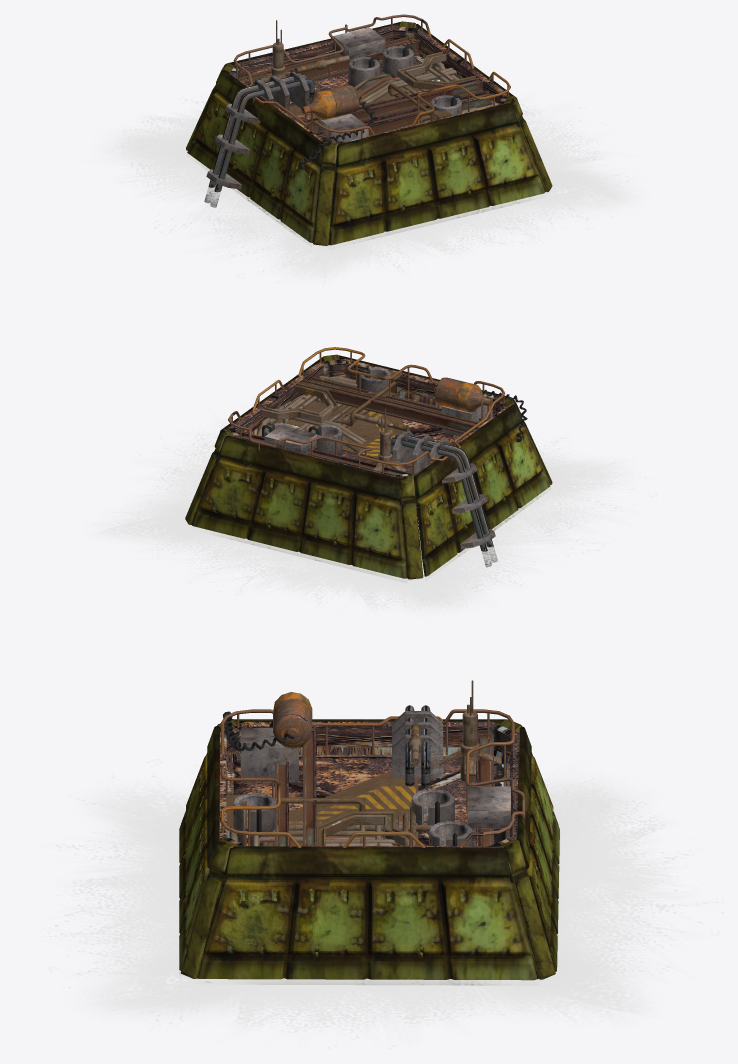
The model's file is static.glb.
3 renders of one model, top to bottom at view 1: azimuth 30°, elevation 25°; view 2: azimuth 150°, elevation 25°; view 3: azimuth 270°, elevation 25°, orthographic. The views are drawn at different scales.
Visible parts, largest first — view 1: scorch, Plane_16, Plane_8, Extrude, SM_obj_PipeWall, Sweep, Sweep_9, Cube_2_2, Plane_6, drum_remesh, Cube_1, Cube_14 (+7 smaller); view 2: scorch, Plane_4, Plane_8, Extrude, SM_obj_PipeWall, Cube_2_2, Sweep, Sweep_9, Plane, drum_remesh, Sweep_5, Boole_1 (+6 smaller); view 3: scorch, Plane_12, Extrude, SM_obj_PipeWall, Plane_4, Plane_16, Sweep, Plane_10, Plane_14, Boole_1_3, drum_remesh, Boole_1 (+10 smaller).
Part boxes in pixels (left/top/right/bottom): scorch: left=98, top=56, right=641, bottom=286; Plane_16: left=329, top=103, right=545, bottom=245; Plane_8: left=187, top=70, right=322, bottom=242; Extrude: left=229, top=25, right=509, bottom=143; SM_obj_PipeWall: left=290, top=62, right=498, bottom=122; Sweep: left=233, top=14, right=510, bottom=135; Sweep_9: left=204, top=74, right=314, bottom=207; Cube_2_2: left=298, top=78, right=483, bottom=132; Plane_6: left=313, top=141, right=339, bottom=245; drum_remesh: left=301, top=84, right=359, bottom=120; Cube_1: left=238, top=36, right=419, bottom=85; Cube_14: left=313, top=90, right=493, bottom=139; scorch: left=88, top=399, right=657, bottom=614; Plane_4: left=191, top=436, right=406, bottom=578; Plane_8: left=413, top=404, right=550, bottom=576; Extrude: left=228, top=358, right=508, bottom=477; SM_obj_PipeWall: left=256, top=371, right=417, bottom=514; Cube_2_2: left=298, top=379, right=482, bottom=434; Sweep: left=228, top=347, right=505, bottom=465; Sweep_9: left=391, top=433, right=497, bottom=567; Plane: left=397, top=475, right=423, bottom=579; drum_remesh: left=434, top=377, right=492, bottom=412; Sweep_5: left=262, top=383, right=337, bottom=423; Boole_1: left=264, top=425, right=316, bottom=454; scorch: left=41, top=759, right=723, bottom=1049; Plane_12: left=198, top=846, right=537, bottom=985; Extrude: left=220, top=721, right=518, bottom=846; SM_obj_PipeWall: left=226, top=770, right=431, bottom=846; Plane_4: left=516, top=726, right=559, bottom=971; Plane_16: left=179, top=726, right=219, bottom=970; Sweep: left=220, top=709, right=525, bottom=847; Plane_10: left=497, top=840, right=555, bottom=979; Plane_14: left=181, top=839, right=238, bottom=978; Boole_1_3: left=240, top=728, right=298, bottom=782; drum_remesh: left=273, top=692, right=312, bottom=748; Boole_1: left=467, top=786, right=510, bottom=828.
Size of the model in its own units: 10.62 by 3.36 by 10.62.
Materials: 10 (10 with a texture image).
